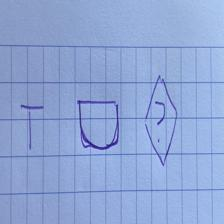halfround-rectangle: (77, 100, 119, 150)
replacement-glyph: (144, 76, 178, 167)
terminator: (19, 104, 45, 150)
